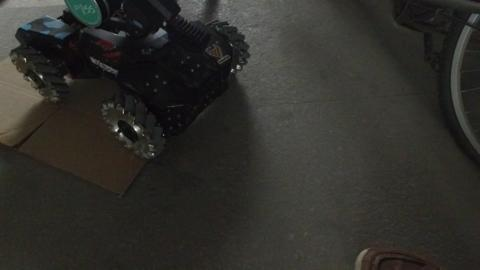chariot: (6, 5, 271, 164)
